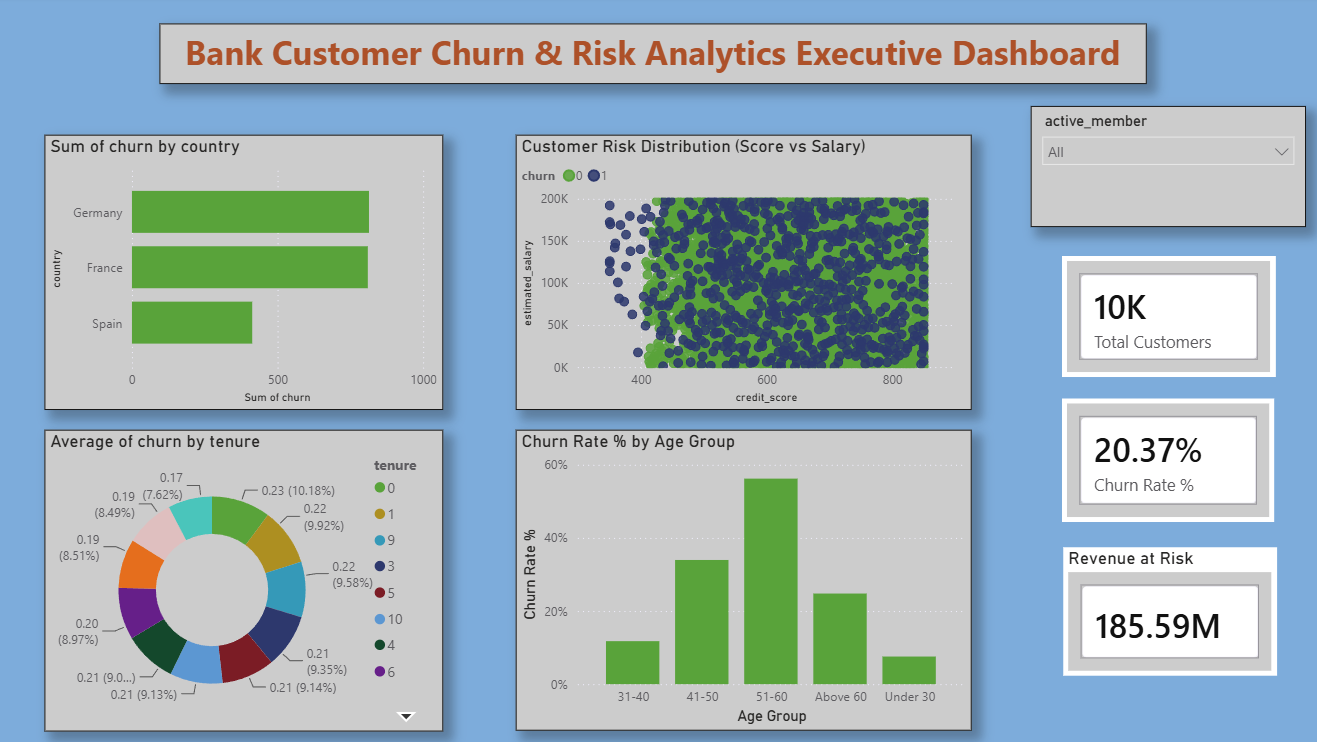

This screenshot's page, from the dashboard's own definition file:
{"tool":"powerbi","page":{"name":"Page 1","canvas":[1280,720],"ordinal":0},"visuals":[{"type":"cardVisual","fields":{"Data":["final_bank_churn_data.Churn Rate %"]},"box":[1032.7,388.5,205.1,119.4],"z":0},{"type":"cardVisual","fields":{"Data":["final_bank_churn_data.Total Customers"]},"box":[1032.7,250.9,206.3,117],"z":1000},{"type":"clusteredBarChart","fields":{"Category":["final_bank_churn_data.country"],"Y":["Sum(final_bank_churn_data.churn)"]},"box":[50.1,134.5,385.2,265.4],"z":2000},{"type":"donutChart","fields":{"Category":["age.tenure"],"Y":["Avg(age.churn)"]},"box":[50.1,418.2,385.2,291],"z":3000},{"type":"slicer","fields":{"Values":["final_bank_churn_data.active_member"]},"box":[1002.6,106.2,265.4,117],"z":4000},{"type":"textbox","box":[161.4,26.9,952.6,58.7],"z":5000},{"type":"clusteredColumnChart","fields":{"Category":["age.Age Group"],"Y":["age.Churn Rate %"]},"box":[505.5,418.6,440.4,290.8],"z":6000},{"type":"cardVisual","title":"Revenue at Risk","fields":{"Data":["Sum(age.balance)"]},"box":[1033.9,532,206.3,124.3],"z":7000},{"type":"scatterChart","title":"Customer Risk Distribution (Score vs Salary)","fields":{"X":["age.credit_score"],"Y":["age.estimated_salary"],"Series":["age.churn"]},"box":[505.5,133.9,440.4,265.4],"z":8000}]}

Visuals, with their boxes in screenshot pixels (x1, y1, x2, y2), scaled from the page's 1280x720 canvas onto the 1317x742 screenshot:
cardVisual - final_bank_churn_data.Churn Rate %: 1063, 400, 1274, 523
cardVisual - final_bank_churn_data.Total Customers: 1063, 259, 1275, 379
clusteredBarChart - final_bank_churn_data.country x Sum(final_bank_churn_data.churn): 52, 139, 448, 412
donutChart - age.tenure x Avg(age.churn): 52, 431, 448, 731
slicer - final_bank_churn_data.active_member: 1032, 109, 1305, 230
textbox: 166, 28, 1146, 88
clusteredColumnChart - age.Age Group x age.Churn Rate %: 520, 431, 973, 731
"Revenue at Risk" cardVisual: 1064, 548, 1276, 676
"Customer Risk Distribution (Score vs Salary)" scatterChart: 520, 138, 973, 412
